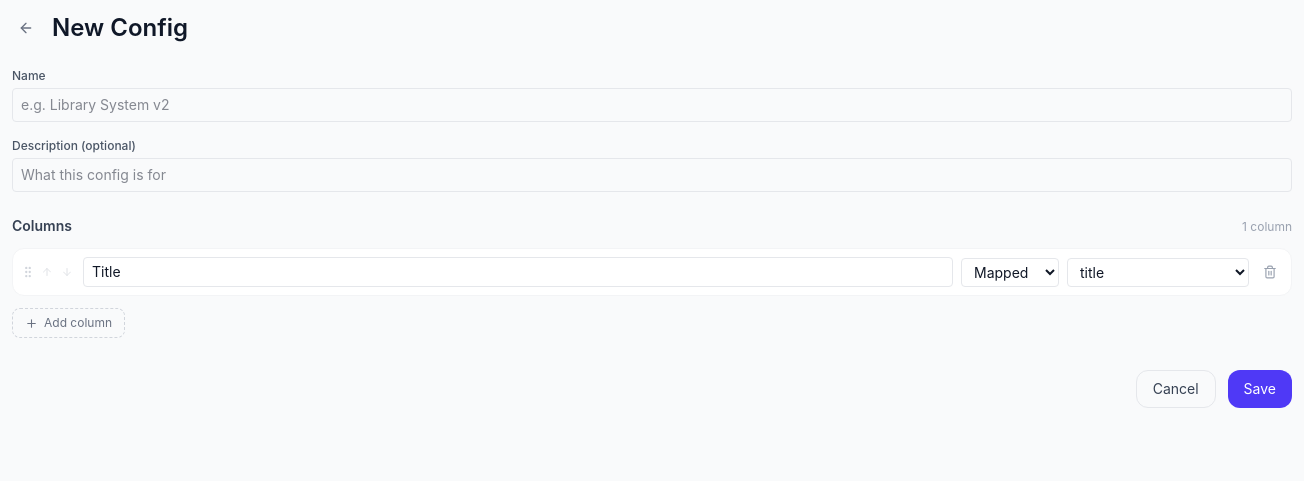
ConfigEditor — create mode › Add column appends a new row
Check: the text "1 column" is shown, box [1242,219,1292,235]
Click the button "Add column": (68, 323) [12,308,125,338]
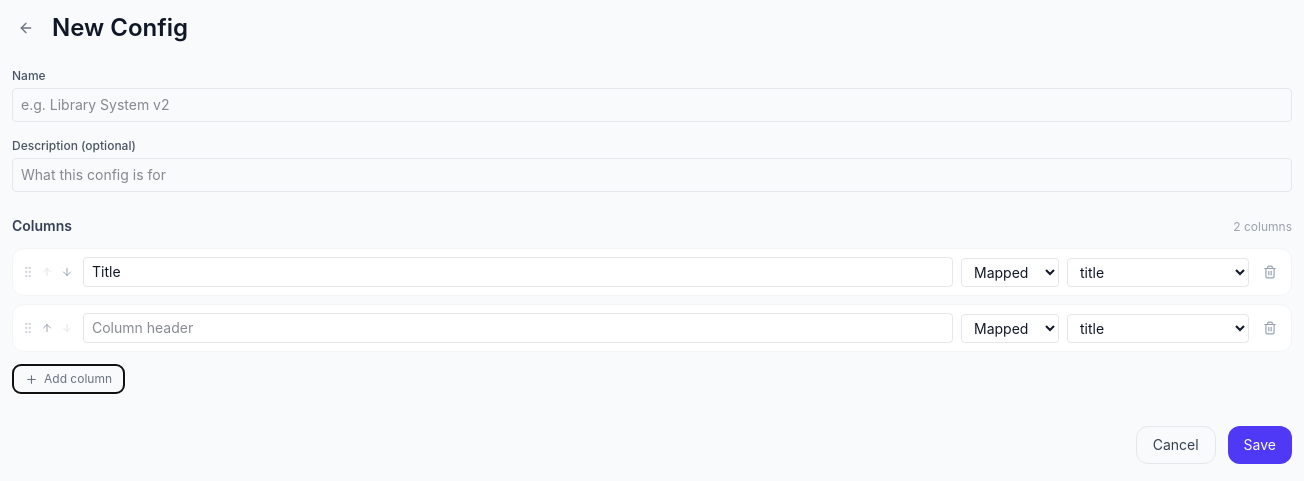
Check: the text "2 columns" is shown, box [1233,219,1292,235]
